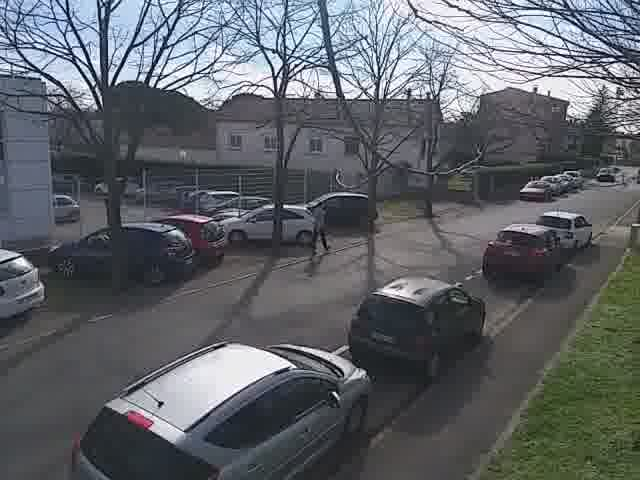persona: (304, 192, 337, 259)
